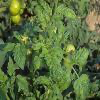Tomato leaf yellow virus: (73, 73, 93, 99), (46, 51, 63, 81), (13, 40, 28, 71), (70, 46, 90, 68), (30, 47, 47, 72), (33, 73, 53, 89), (57, 6, 78, 21), (16, 74, 29, 96)
